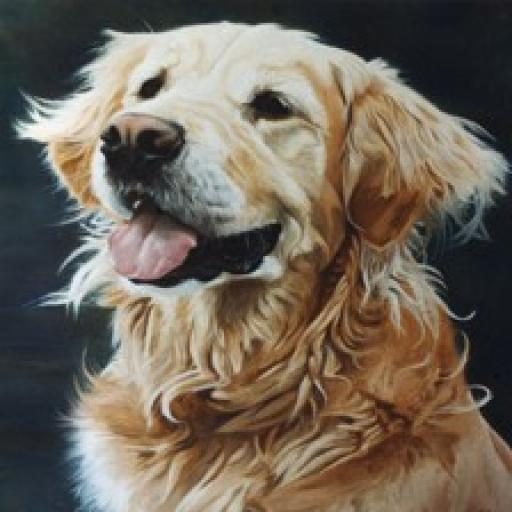dog: (6, 16, 512, 510)
